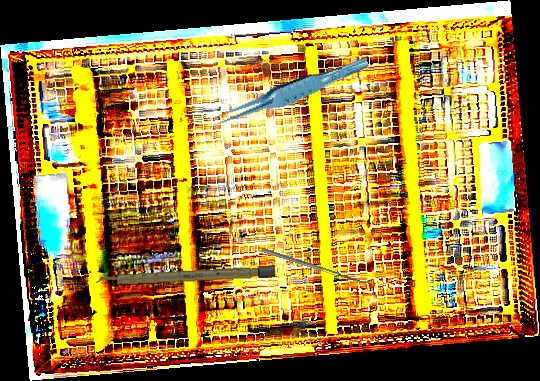Scalpel Handle: (95, 265, 276, 287)
Spatula Surgical: (261, 243, 373, 288)
Tissue Forceps: (206, 56, 373, 128)
